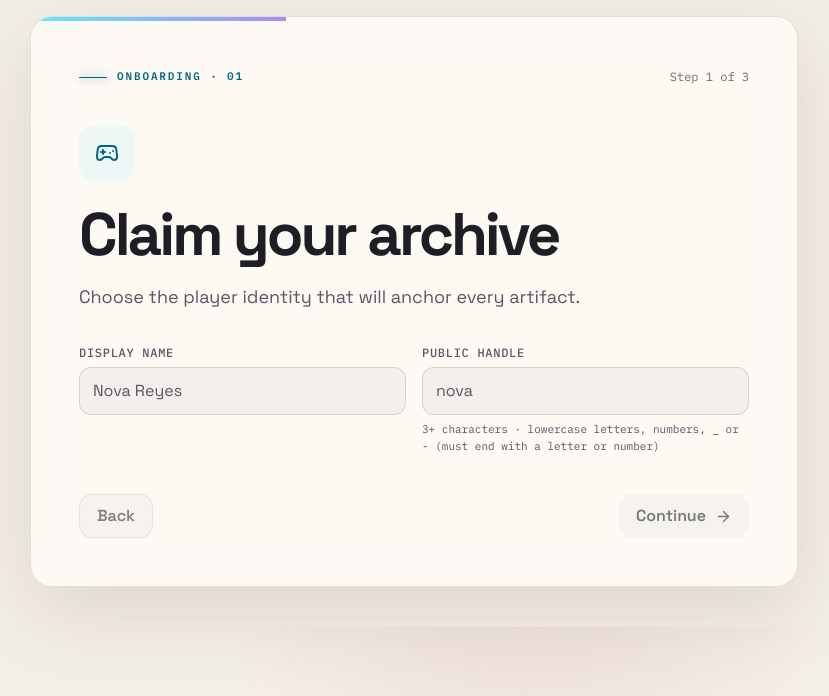
Onboarding › sanitizes the handle to lowercase archive-safe characters
Type "Nova Reyes!" into the field with placeholder "nova" at (586, 391), box [422, 367, 749, 415]
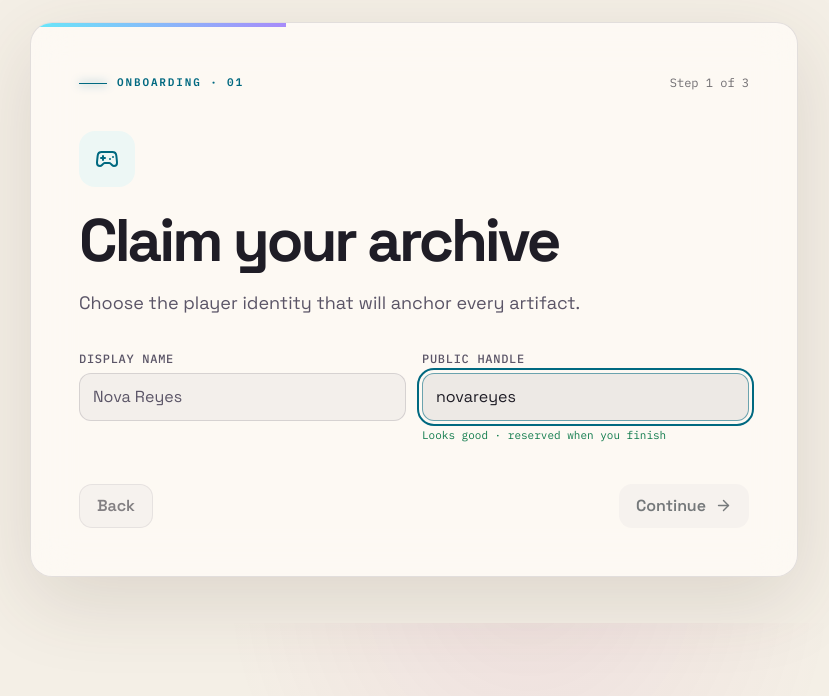
Expected: the field with placeholder "nova" holds "novareyes", [422, 373, 749, 421]
